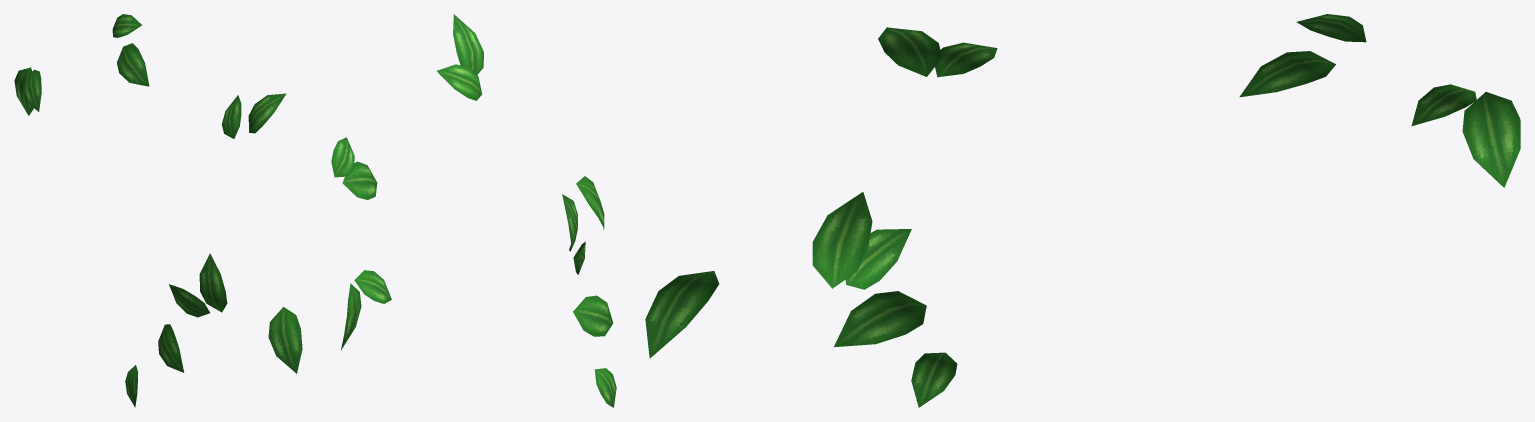
File: EKH_BARRELROOM_PS_JA1_LEAVES04049.fbx
3 renders of one model, left to right at view 1: azimuth 30°, elevation 25°; view 2: azimuth 150°, elevation 25°; view 3: azimuth 270°, elevation 25°, orthographic. The views are drawn at different scales.
Visible parts, largest first — view 1: EKH_BARRELROOM_PS_JA1_LEAVES04049; view 2: EKH_BARRELROOM_PS_JA1_LEAVES04049; view 3: EKH_BARRELROOM_PS_JA1_LEAVES04049.
Boxes of the visible parts, <box> form: EKH_BARRELROOM_PS_JA1_LEAVES04049: <box>14,14,302,407</box>; EKH_BARRELROOM_PS_JA1_LEAVES04049: <box>331,14,616,407</box>; EKH_BARRELROOM_PS_JA1_LEAVES04049: <box>645,14,1520,407</box>.
Bounding box in the file's own units: 6908 × 13133 × 20736.
Materials: 1 (1 with a texture image).
